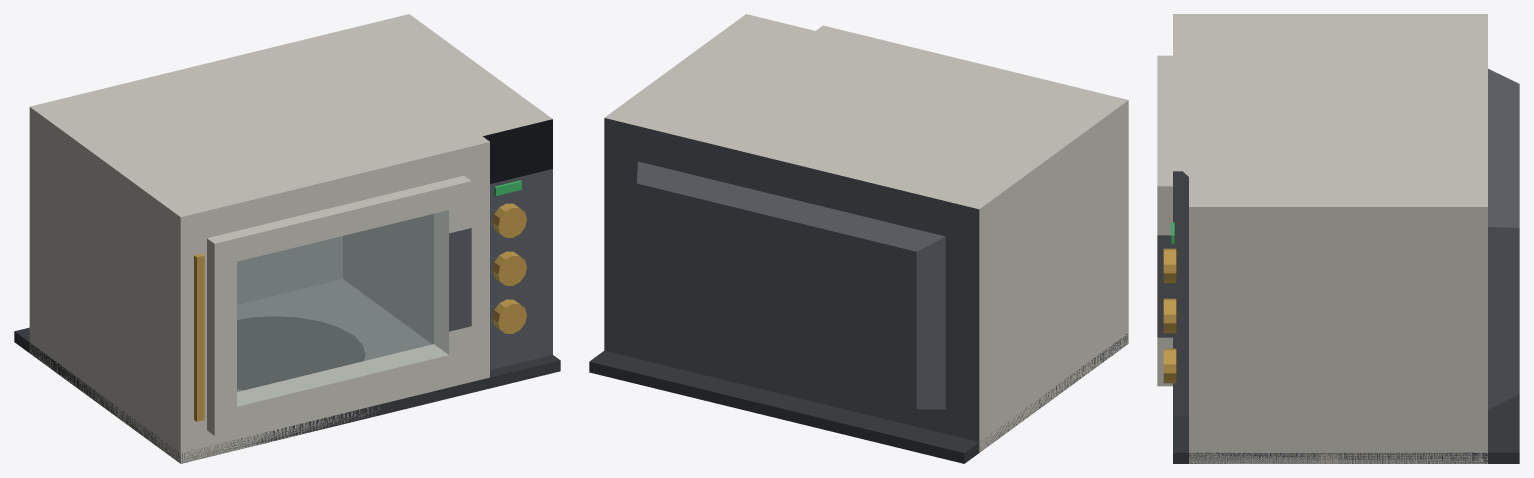
File: kitchenMicrowave.glb
3 renders of one model, left to right at view 1: azimuth 30°, elevation 25°; view 2: azimuth 150°, elevation 25°; view 3: azimuth 270°, elevation 25°, orthographic. The views are drawn at different scales.
Visible parts, largest first — view 1: kitchenMicrowave(Clone), Group; view 2: kitchenMicrowave(Clone); view 3: kitchenMicrowave(Clone), Group.
Boxes of the visible parts, bbox=[...] form: kitchenMicrowave(Clone): bbox=[14, 14, 560, 463]; Group: bbox=[207, 175, 471, 435]; kitchenMicrowave(Clone): bbox=[589, 14, 1128, 463]; kitchenMicrowave(Clone): bbox=[1163, 14, 1519, 463]; Group: bbox=[1157, 55, 1188, 386].
Size of the model in its own units: 0.29 by 0.18 by 0.23.
